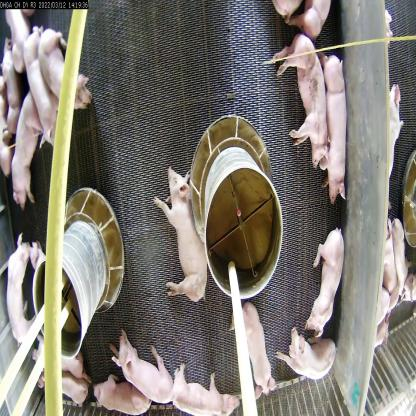Pig: (266, 29, 332, 174), (160, 174, 206, 306), (319, 53, 359, 199), (7, 92, 54, 204), (38, 17, 98, 104), (20, 28, 61, 152), (112, 329, 179, 399), (309, 224, 347, 332), (236, 298, 274, 402), (4, 236, 32, 357), (284, 329, 336, 394), (88, 372, 148, 416), (174, 375, 239, 415)
